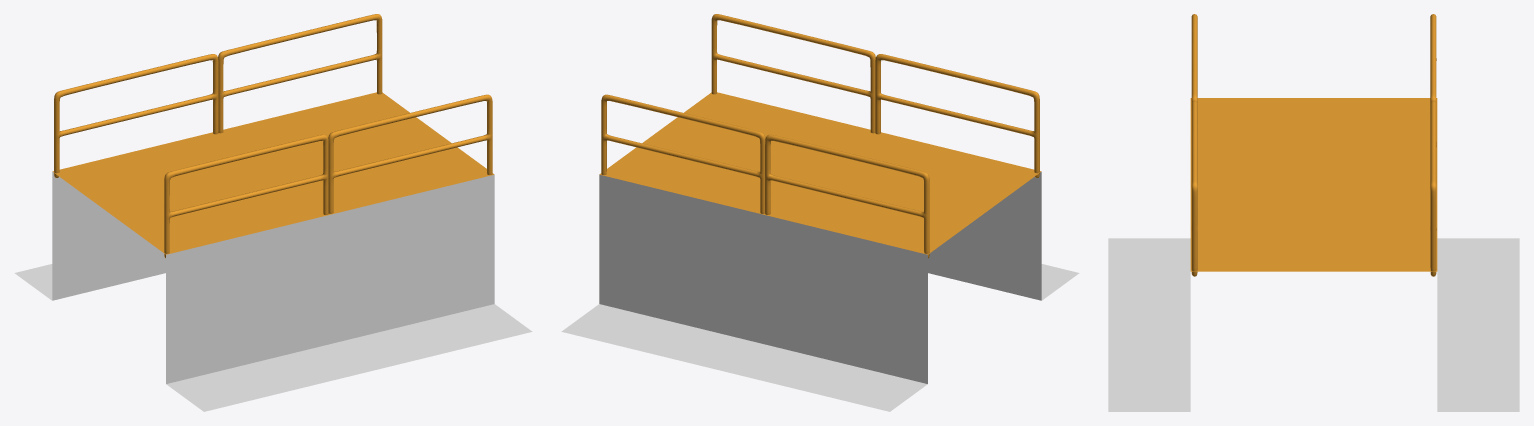
Rendered from Uebergang.fbx.
The picture shows the model from 3 angles, left to right: view 1: azimuth 30°, elevation 25°; view 2: azimuth 150°, elevation 25°; view 3: azimuth 270°, elevation 25°; orthographic projection. The views are drawn at different scales.
Parts seen in each view (by area): view 1: Plane.005, Plane.004, Plane.006, Plane.007, Plane.008; view 2: Plane.005, Plane.007, Plane.004, Plane.008, Plane.006; view 3: Plane.005, Plane.008, Plane.006, Plane.004, Plane.007.
Boxes of the visible parts, bbox=[...] form: Plane.005: bbox=[14, 92, 532, 411]; Plane.004: bbox=[54, 54, 218, 177]; Plane.006: bbox=[218, 14, 382, 133]; Plane.007: bbox=[164, 134, 328, 258]; Plane.008: bbox=[328, 94, 492, 213]; Plane.005: bbox=[561, 92, 1079, 411]; Plane.007: bbox=[875, 54, 1039, 177]; Plane.004: bbox=[765, 134, 929, 258]; Plane.008: bbox=[711, 14, 875, 133]; Plane.006: bbox=[601, 94, 765, 213]; Plane.005: bbox=[1108, 98, 1519, 411]; Plane.008: bbox=[1191, 100, 1197, 276]; Plane.006: bbox=[1430, 100, 1436, 276]; Plane.004: bbox=[1430, 14, 1436, 143]; Plane.007: bbox=[1191, 14, 1197, 102].
Size of the model in its own units: 200 by 122 by 200.
